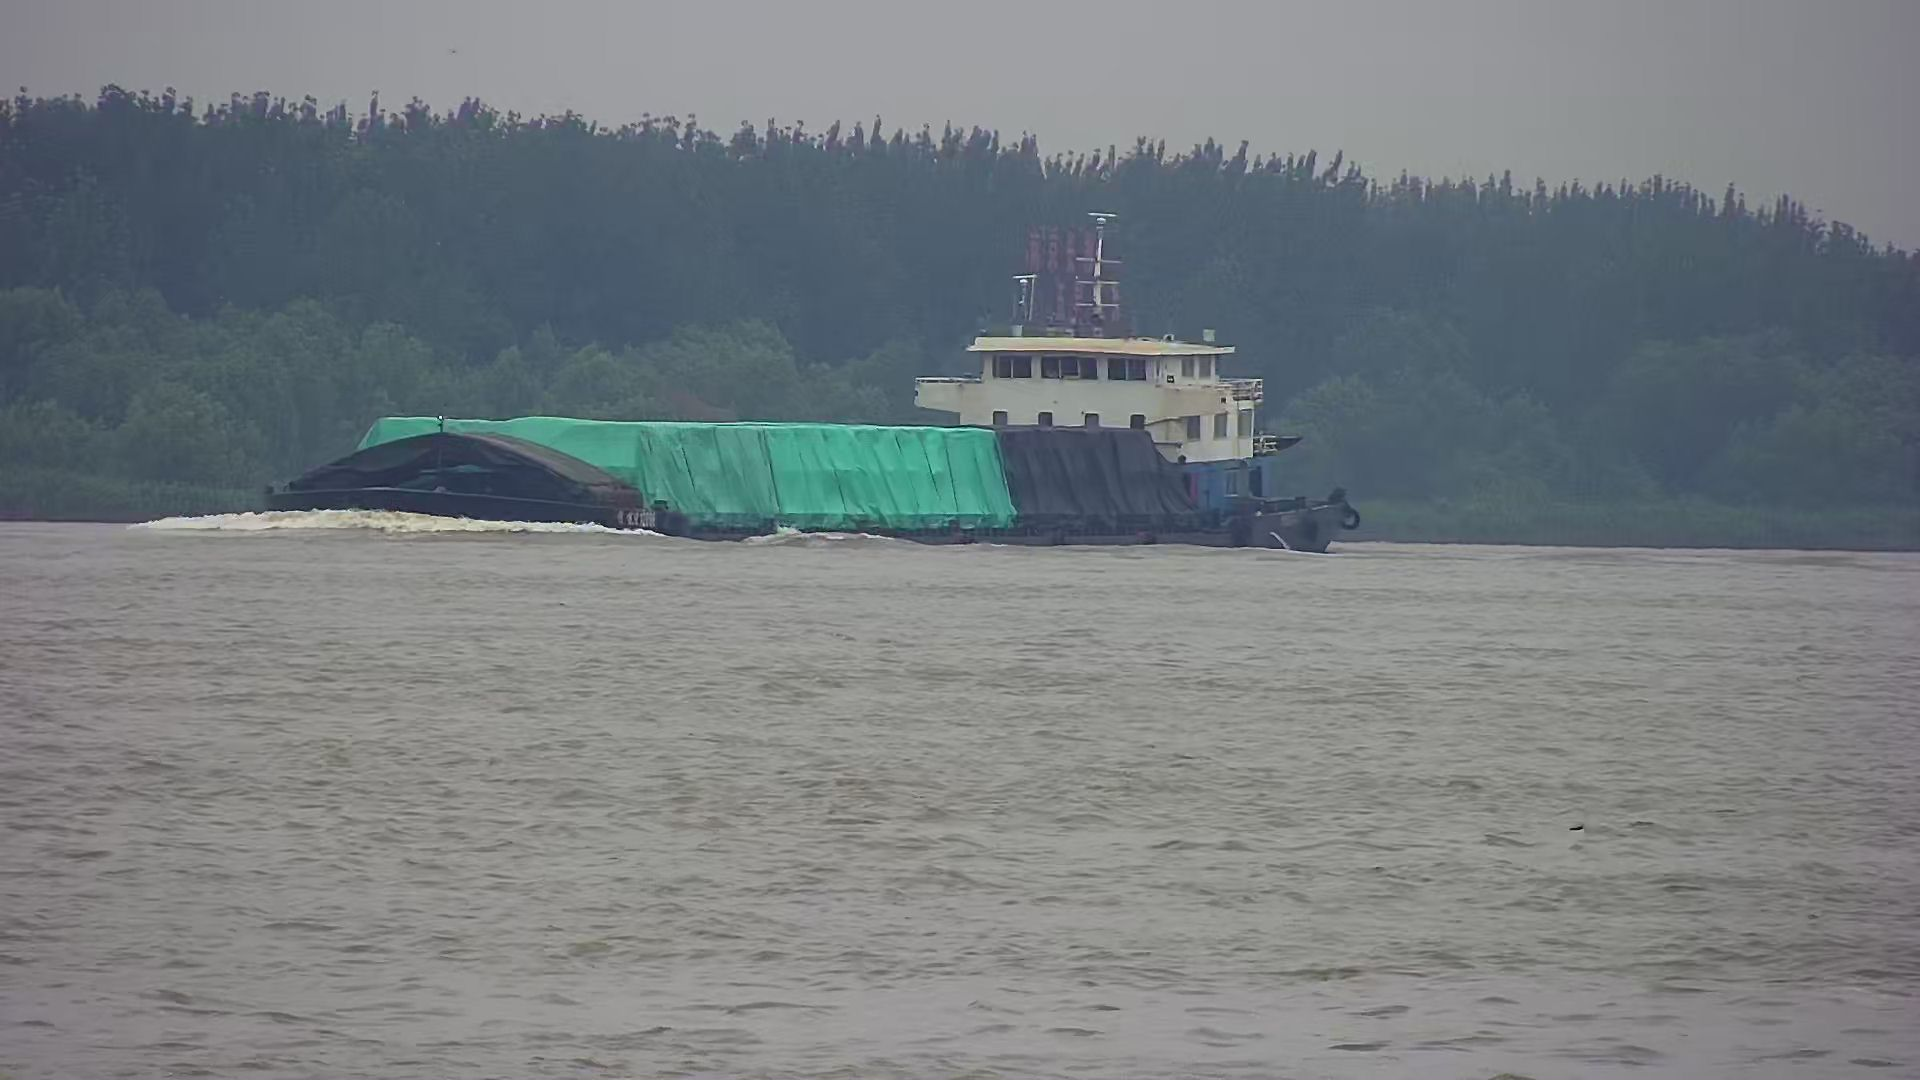ship: (252, 272, 1360, 554)
